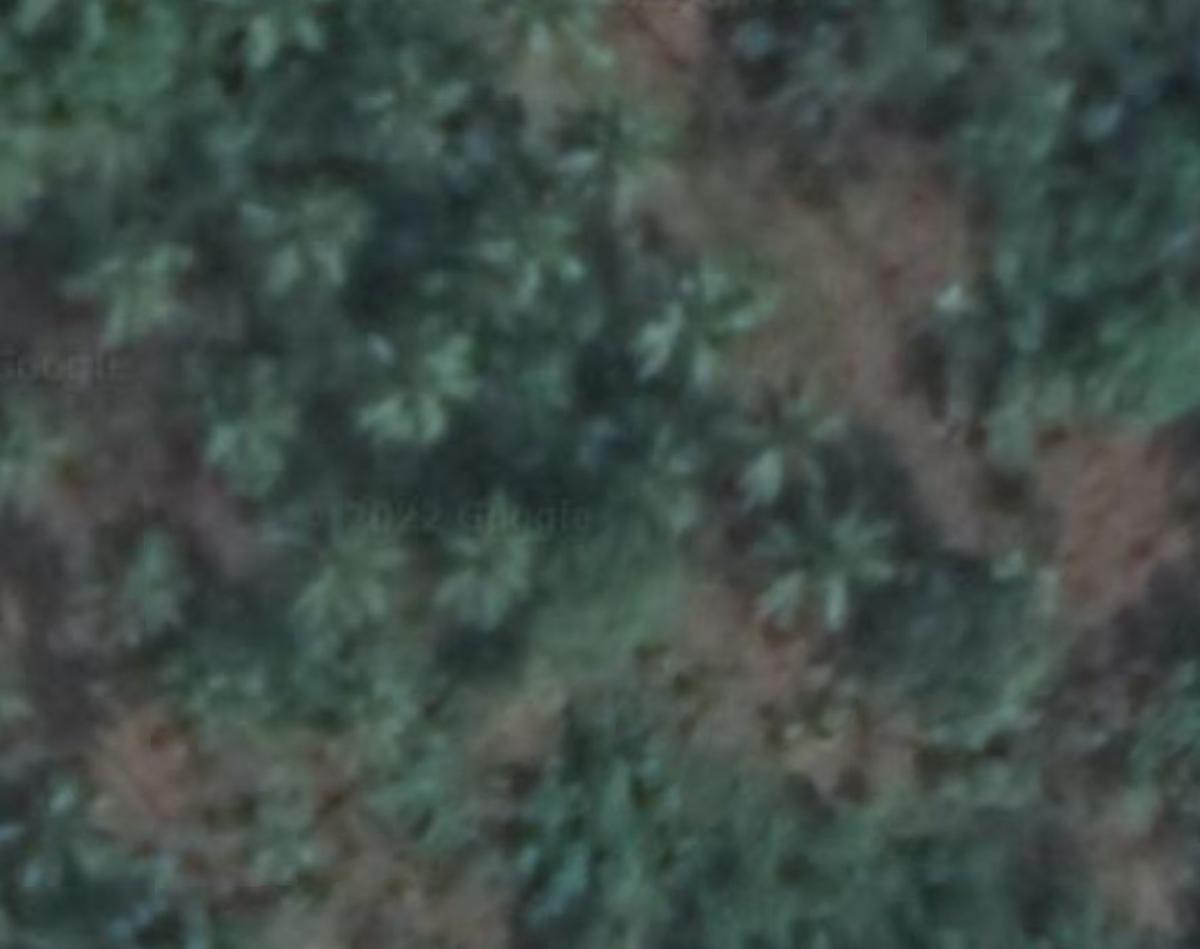coconut: (621, 261, 770, 403), (746, 496, 893, 637), (280, 506, 422, 648), (719, 377, 870, 503), (227, 173, 367, 307), (5, 749, 121, 900), (188, 362, 312, 503), (423, 490, 556, 620), (345, 48, 484, 169), (54, 231, 193, 351), (350, 315, 475, 445), (456, 184, 581, 311), (83, 522, 193, 651), (553, 98, 673, 201)
